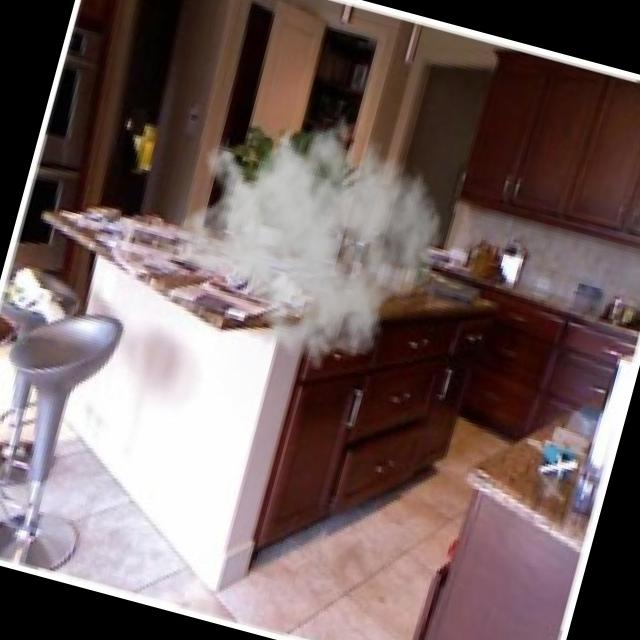Smoke: (146, 65, 471, 394)
